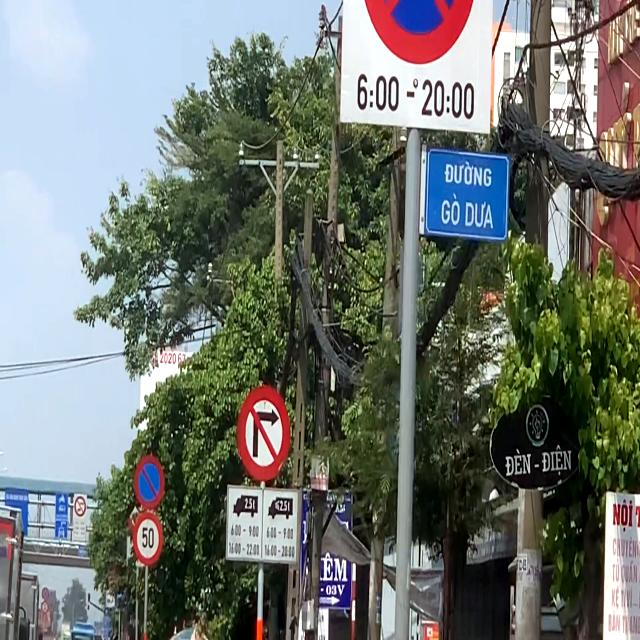P.123b: (238, 382, 292, 486)
P.127: (134, 510, 168, 569)
P.131a: (134, 455, 170, 507)
